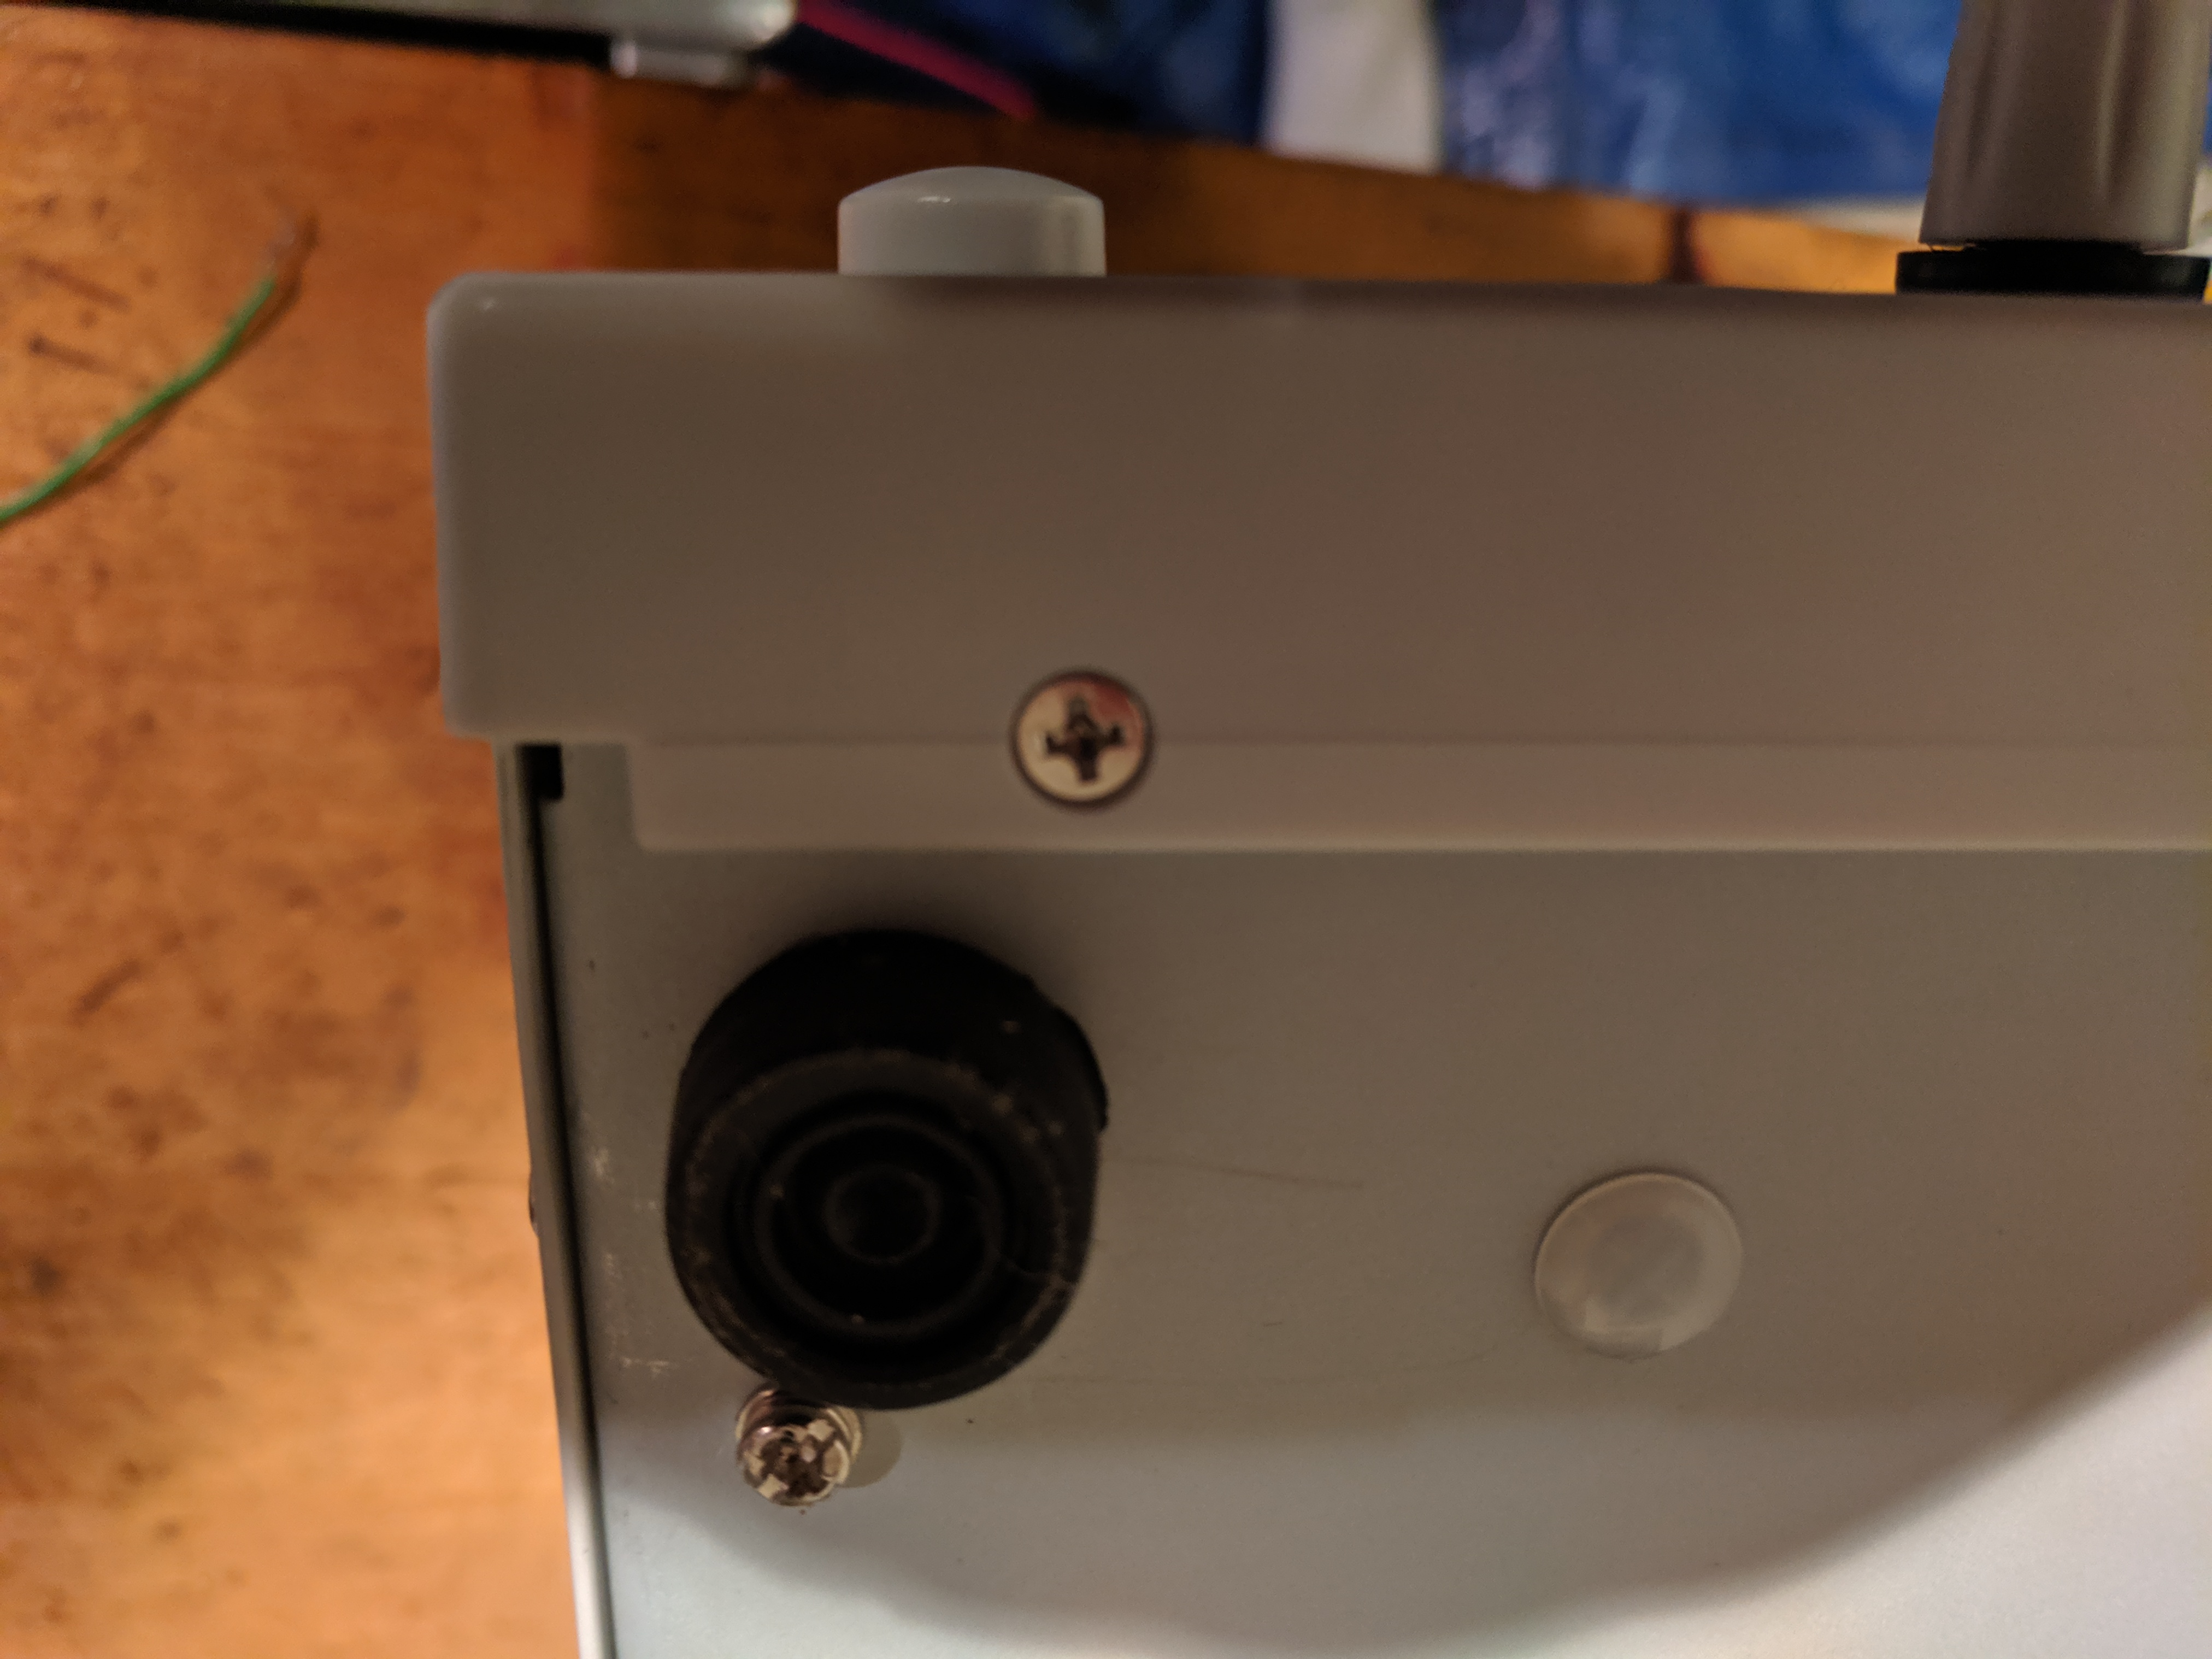cross_recessed_screw: (970, 648, 1177, 824), (723, 1392, 859, 1516)
